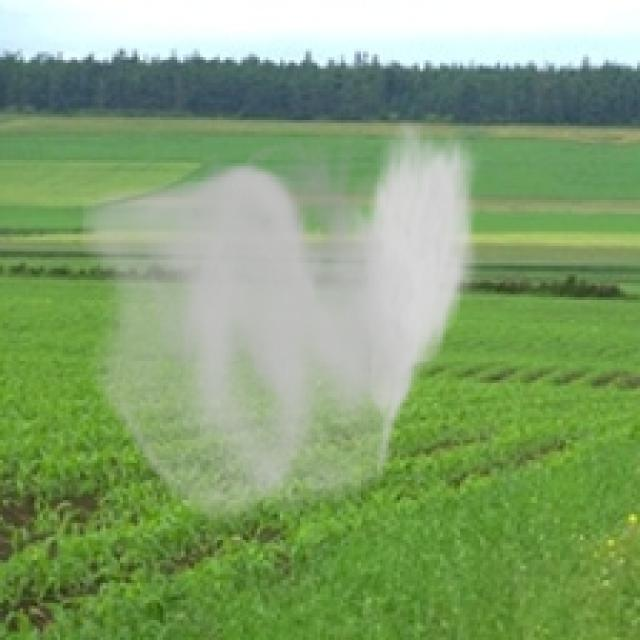smoke: (80, 115, 483, 534)
